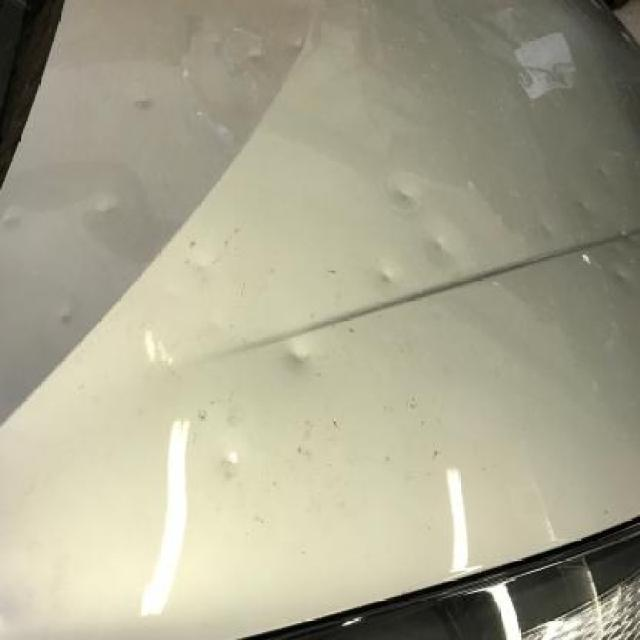dent: (426, 227, 454, 263), (286, 341, 312, 369), (224, 452, 243, 481), (59, 303, 81, 328), (394, 187, 420, 207), (3, 209, 26, 230), (192, 254, 217, 271), (538, 223, 558, 243), (378, 266, 396, 288), (98, 197, 121, 214), (614, 264, 631, 283), (577, 198, 591, 212), (598, 164, 611, 178)
